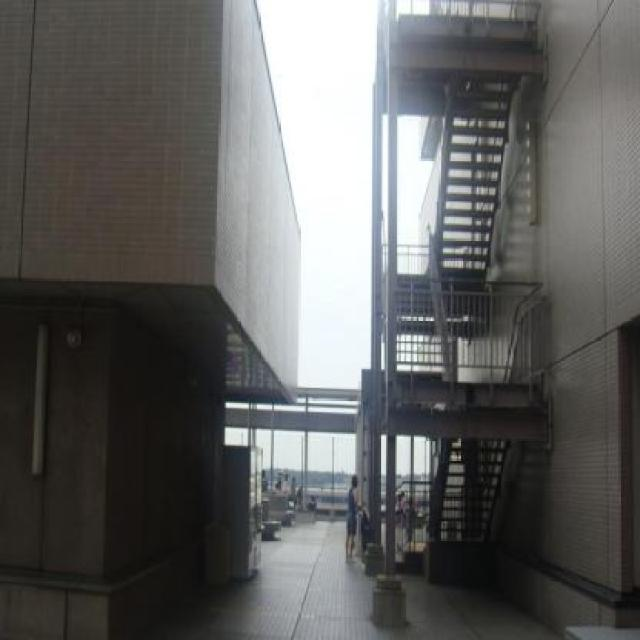stair: (438, 74, 518, 271), (428, 434, 510, 543), (394, 540, 414, 571)
